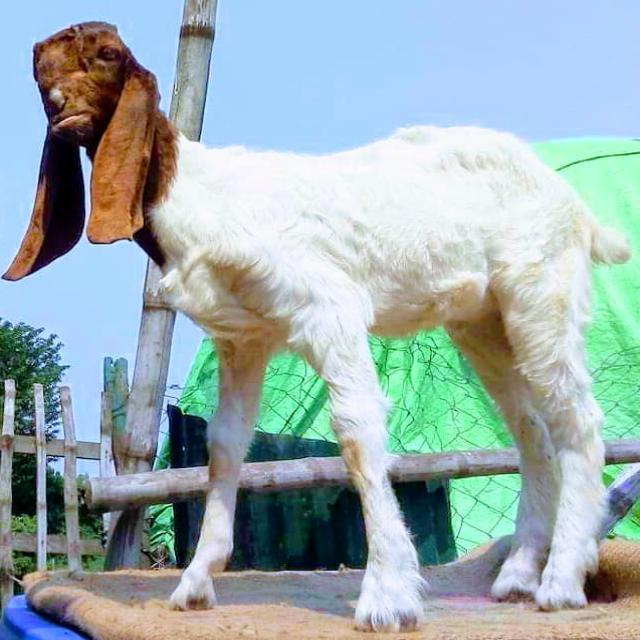Goat: (2, 19, 636, 633)
